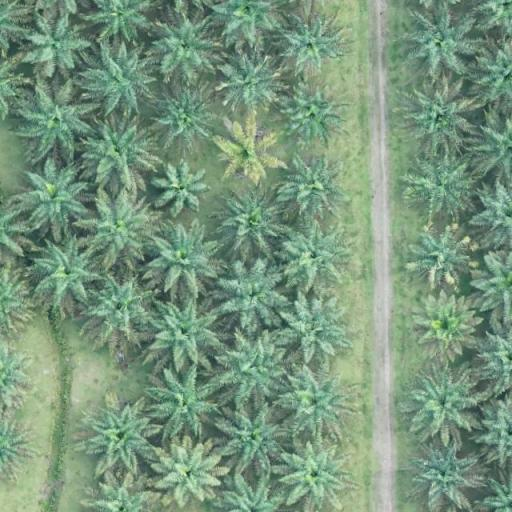Ganoderma: (224, 128, 273, 172)
